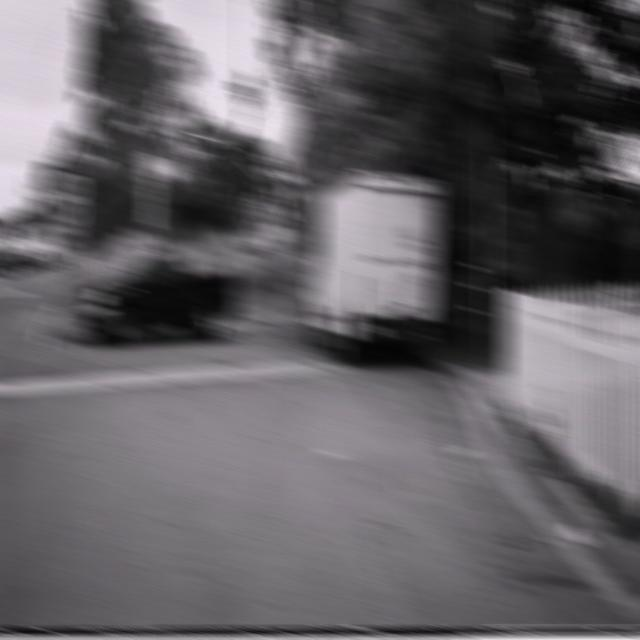doNotEnter: (49, 170, 82, 222)
